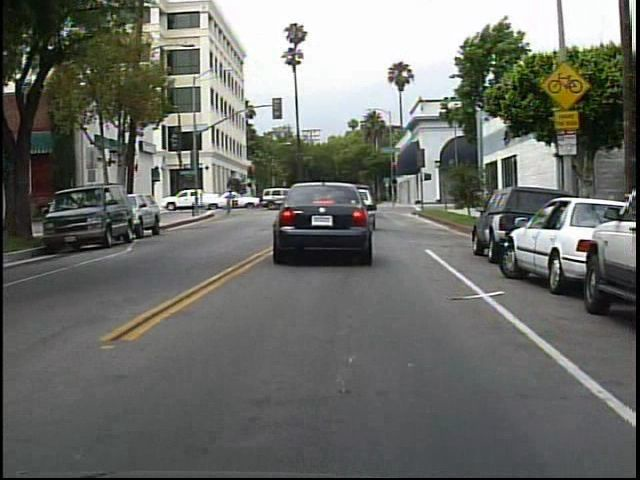person: (218, 187, 238, 218)
